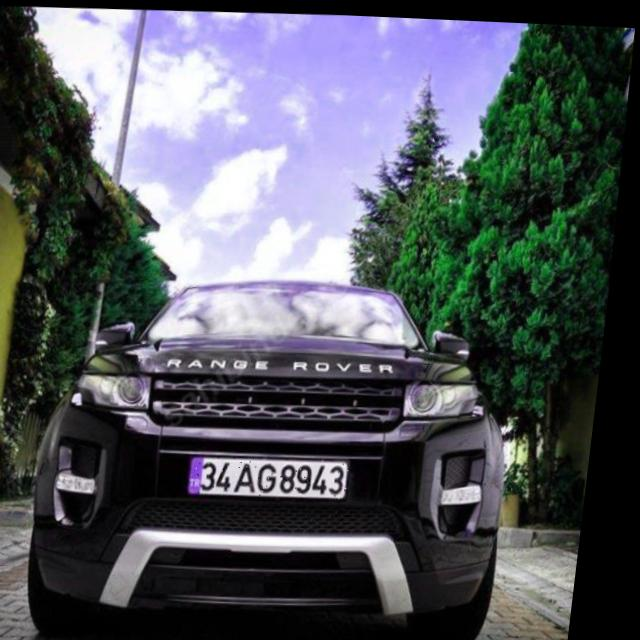license_plate: (197, 451, 362, 498)
